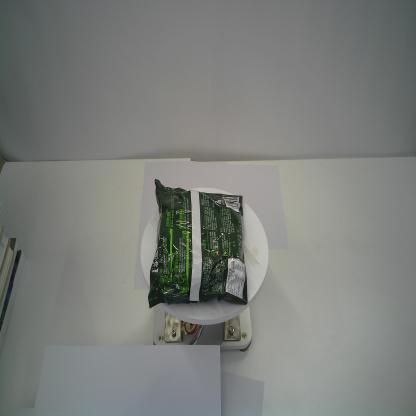Instant Noodles: (146, 177, 248, 310)
